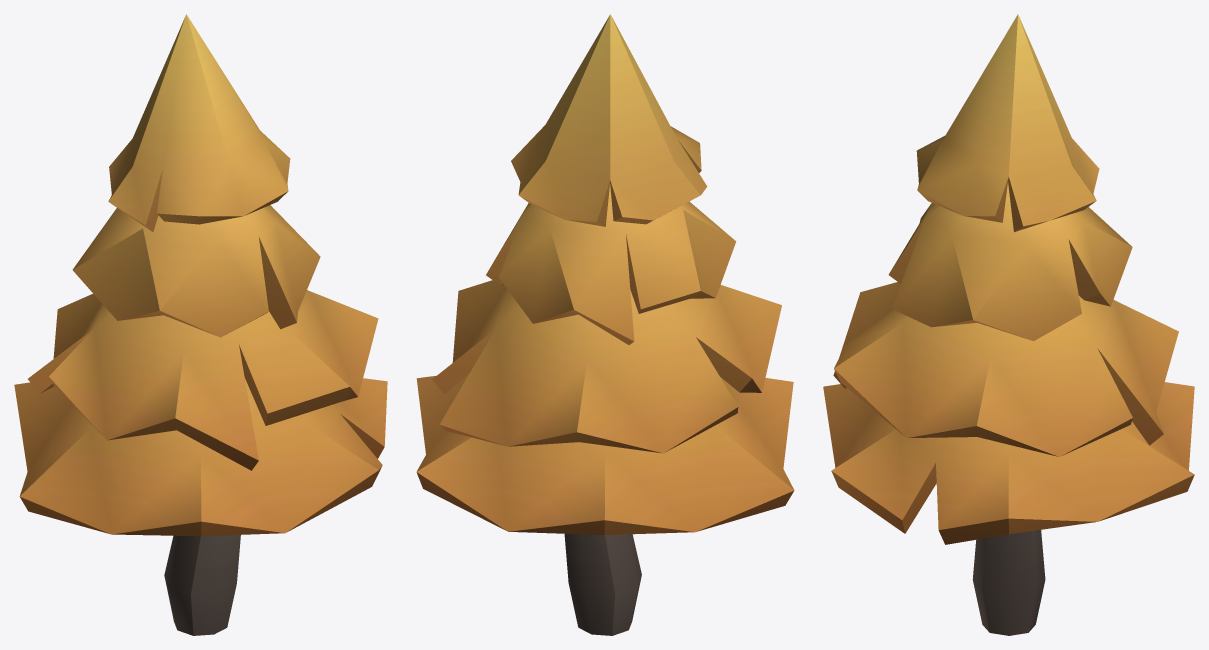
Rendered from pine_large.glb.
The picture shows the model from 3 angles, left to right: view 1: azimuth 30°, elevation 25°; view 2: azimuth 150°, elevation 25°; view 3: azimuth 270°, elevation 25°; orthographic projection.
Parts seen in each view (by area): view 1: tree_pine_yellow_large; view 2: tree_pine_yellow_large; view 3: tree_pine_yellow_large.
Part boxes in pixels (<box>): tree_pine_yellow_large: <box>14,14,387,635</box>; tree_pine_yellow_large: <box>416,14,794,635</box>; tree_pine_yellow_large: <box>823,14,1194,635</box>.
Size of the model in its own units: 4.76 by 7.48 by 4.16.
1 material, 1 textured.
